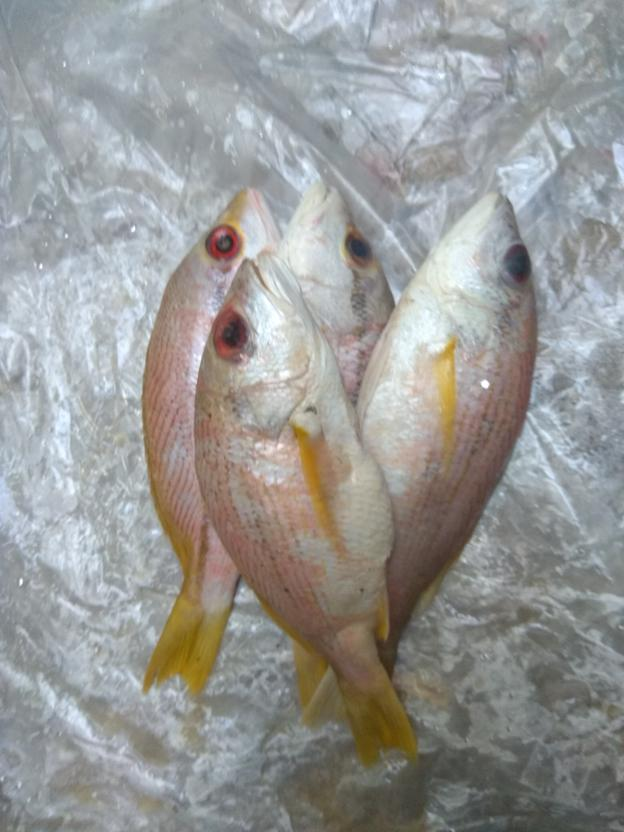Fish head: (195, 255, 339, 438), (410, 196, 539, 353), (286, 189, 399, 343), (164, 189, 282, 320)
Fish tail: (141, 575, 236, 711), (327, 643, 421, 773)
